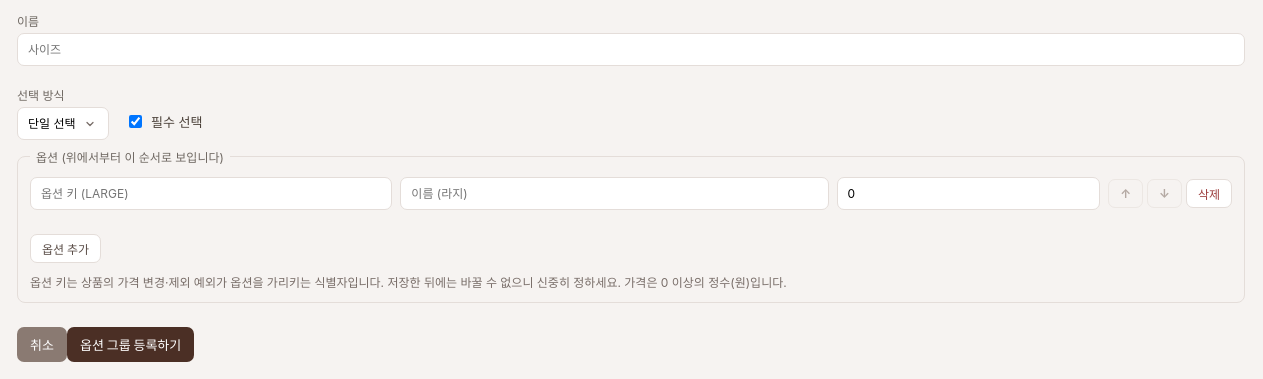
Scenario: OptionGroupForm 등록 › 필수 입력이 비면 요청하지 않고 필드 아래에 안내하며 이름으로 포커스를 옮긴다
Click the button "옵션 그룹 등록하기": x=131, y=344 [67,327,194,362]
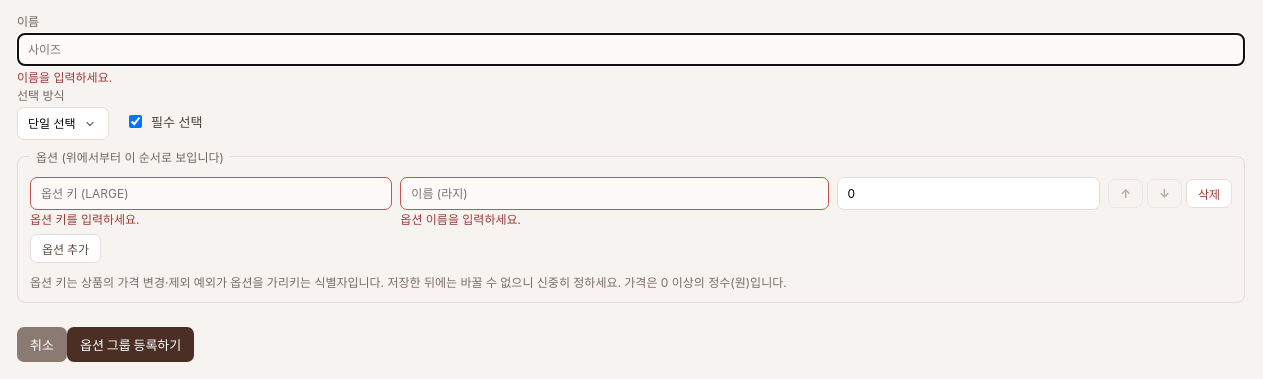
Result: the text "이름을 입력하세요." is shown at [17,70,112,85]
Result: the text "옵션 키를 입력하세요." is shown at [30,212,140,227]
Result: the text "옵션 이름을 입력하세요." is shown at [400,212,521,227]
